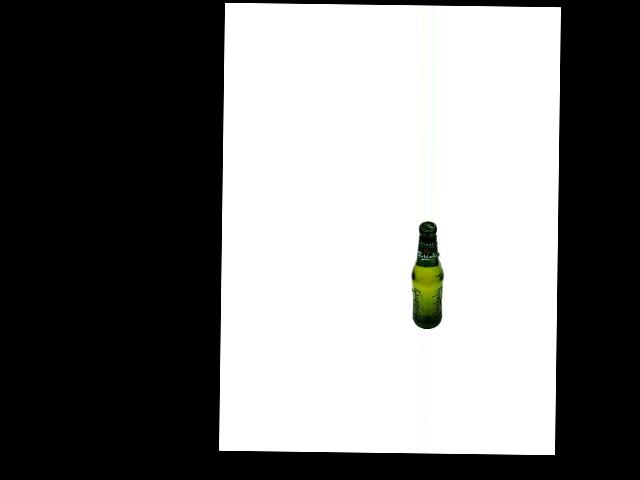beer: (411, 221, 444, 329)
